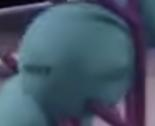algae: (18, 5, 136, 118), (0, 73, 92, 126), (116, 0, 155, 47)
